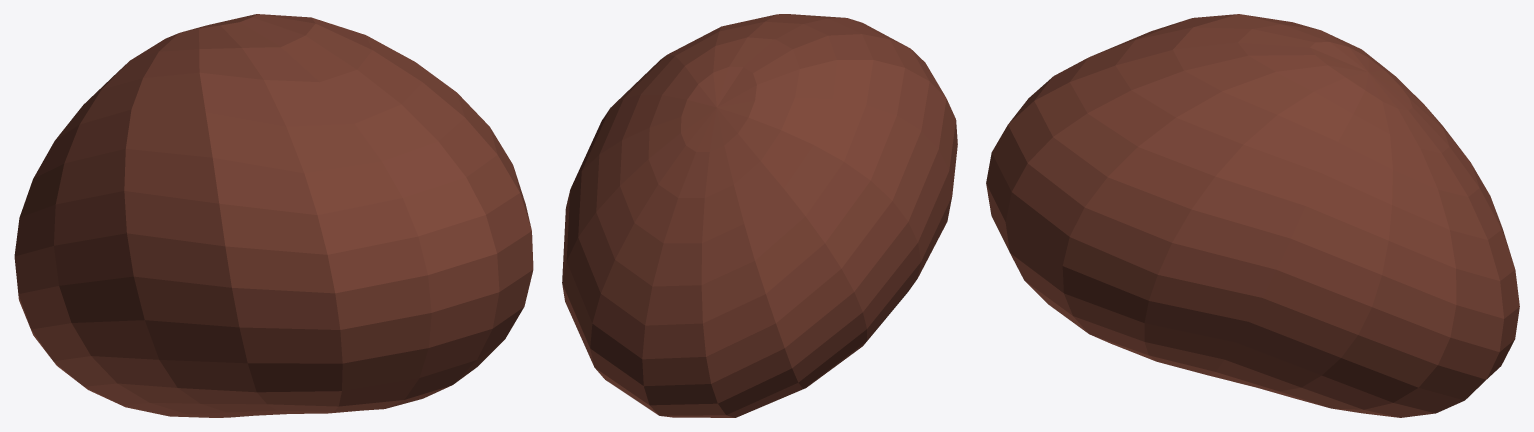
Rendered from Kiwi.fbx.
The picture shows the model from 3 angles, left to right: view 1: azimuth 30°, elevation 25°; view 2: azimuth 150°, elevation 25°; view 3: azimuth 270°, elevation 25°; orthographic projection. The views are drawn at different scales.
Parts seen in each view (by area): view 1: Body; view 2: Body; view 3: Body.
Part boxes in pixels (<box>): Body: <box>14,14,533,417</box>; Body: <box>562,14,957,417</box>; Body: <box>986,14,1519,417</box>.
Bounding box in the file's own units: 120 × 113 × 154.
